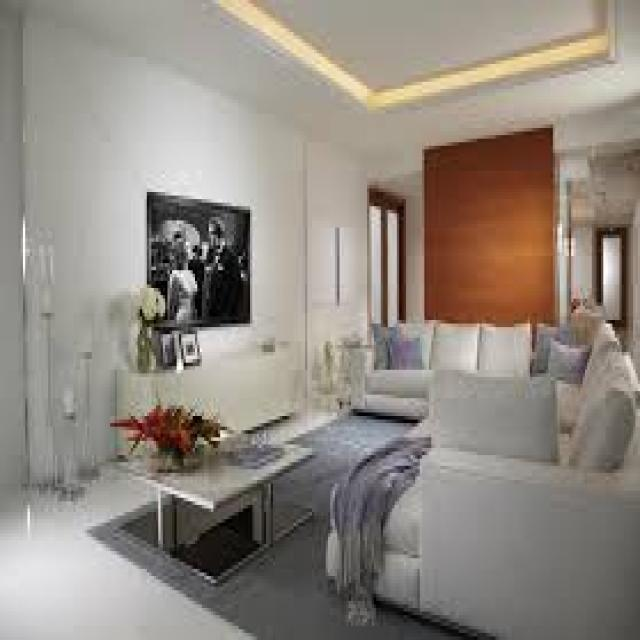Sofa: (334, 379, 640, 640), (430, 329, 640, 631), (347, 286, 536, 414)
Table: (108, 398, 316, 580)
